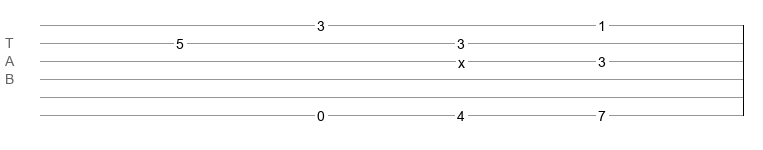0: (317, 108, 325, 118)
1: (598, 18, 606, 28)
3: (317, 18, 325, 28), (457, 36, 465, 46), (598, 54, 606, 64)
4: (457, 108, 465, 118)
5: (176, 36, 184, 46)
7: (598, 108, 606, 118)
x: (458, 55, 465, 63)
